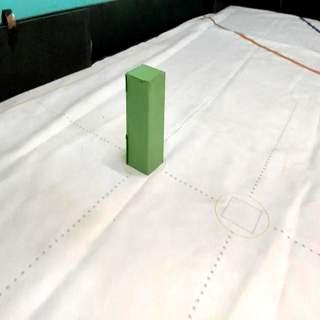greenbox: (126, 64, 166, 174)
